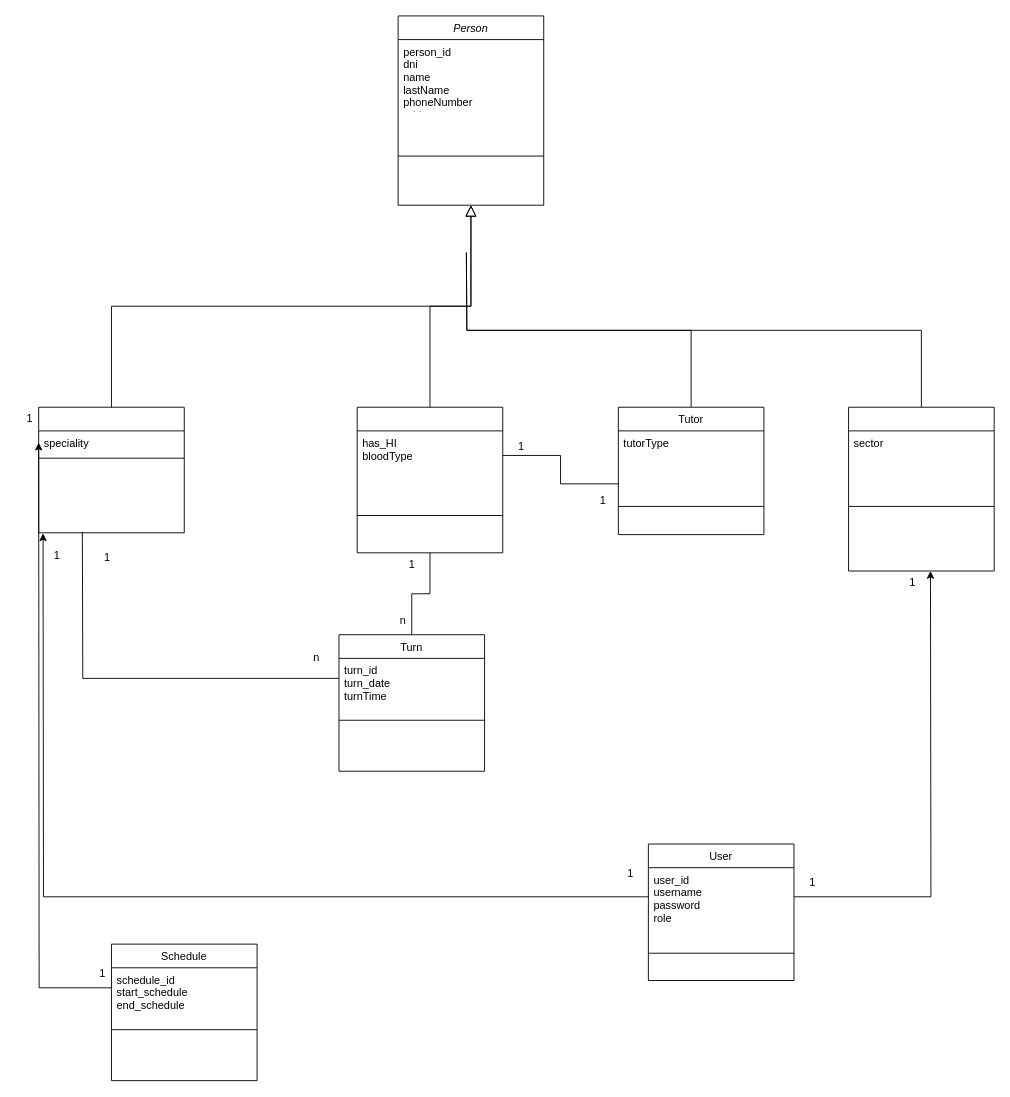
The diagram is 1010 pixels wide and 1097 high, and some of its shapes have lost their labels. The box of each missing label's shape, as (x1, y1, x2, y2) in pixels:
Odontologist: (38, 406, 184, 533)
Patient: (356, 406, 503, 553)
Secretary: (848, 406, 994, 571)
